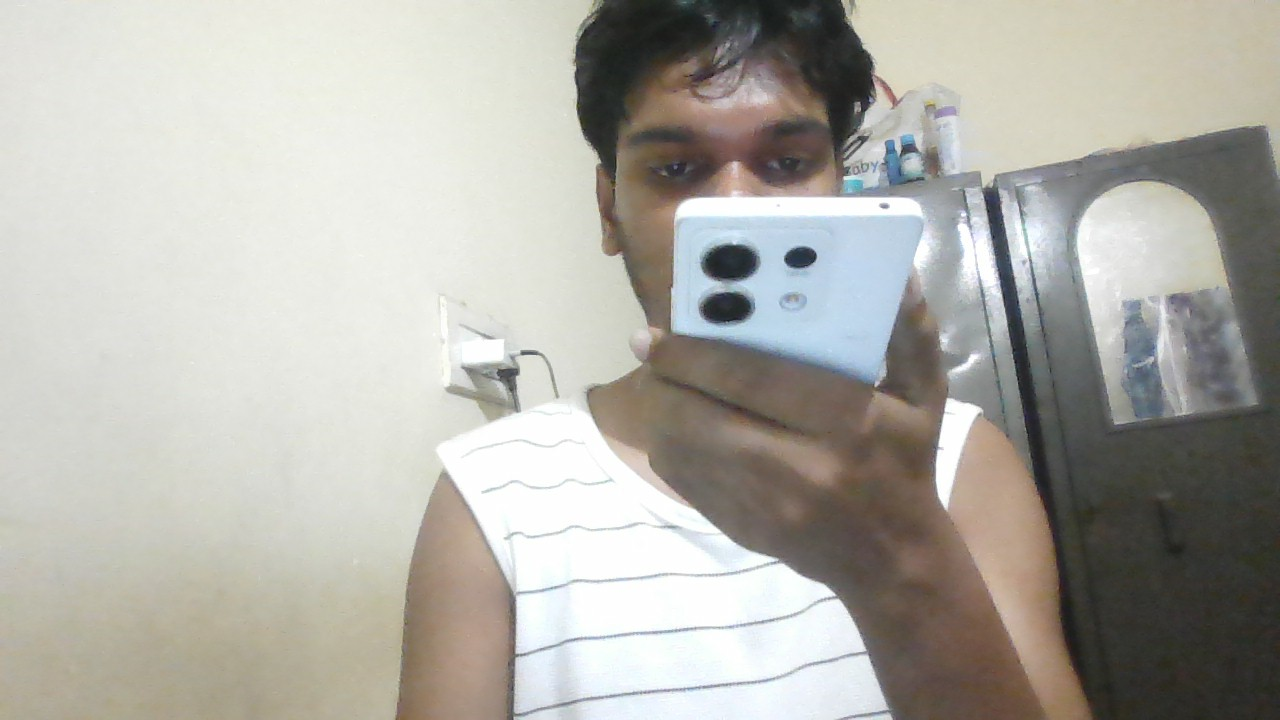phone: (672, 197, 925, 341)
